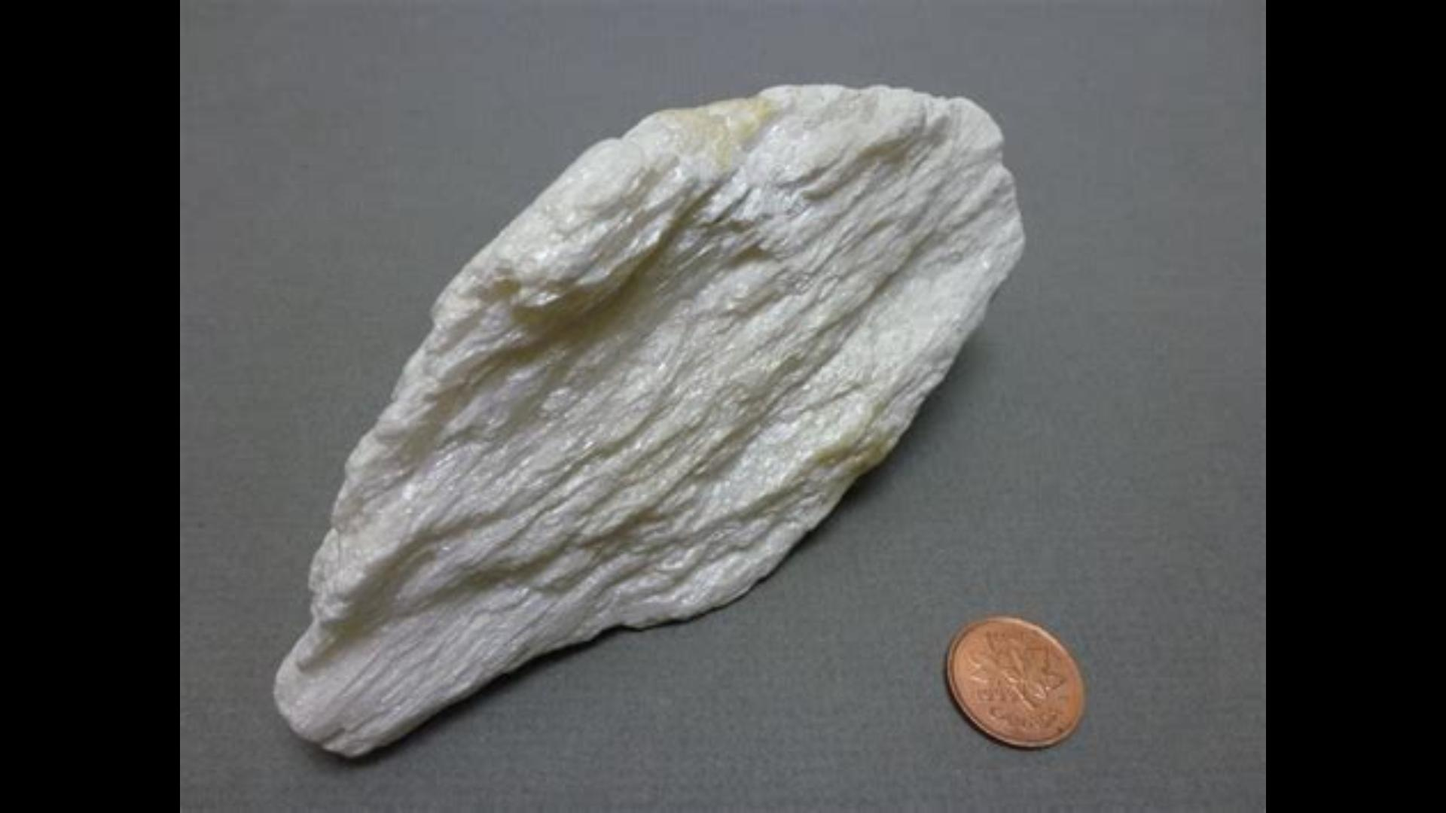rock: (276, 87, 1019, 751)
